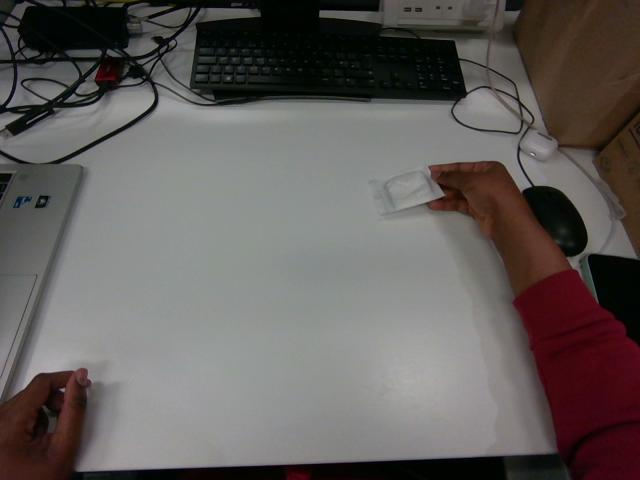gauze: (370, 167, 444, 215)
